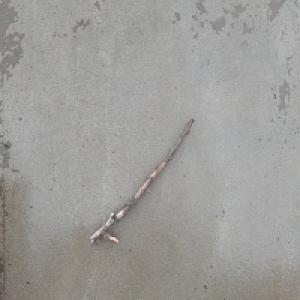Wood: (88, 116, 196, 246)
